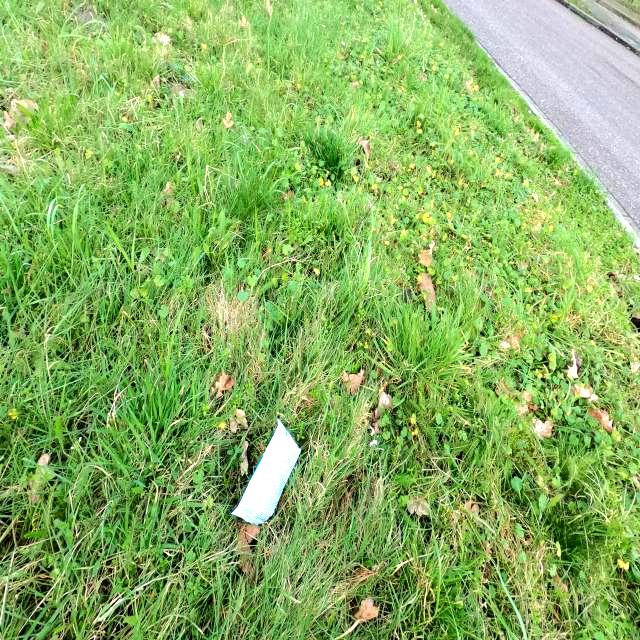Plastic: (230, 417, 302, 527)
